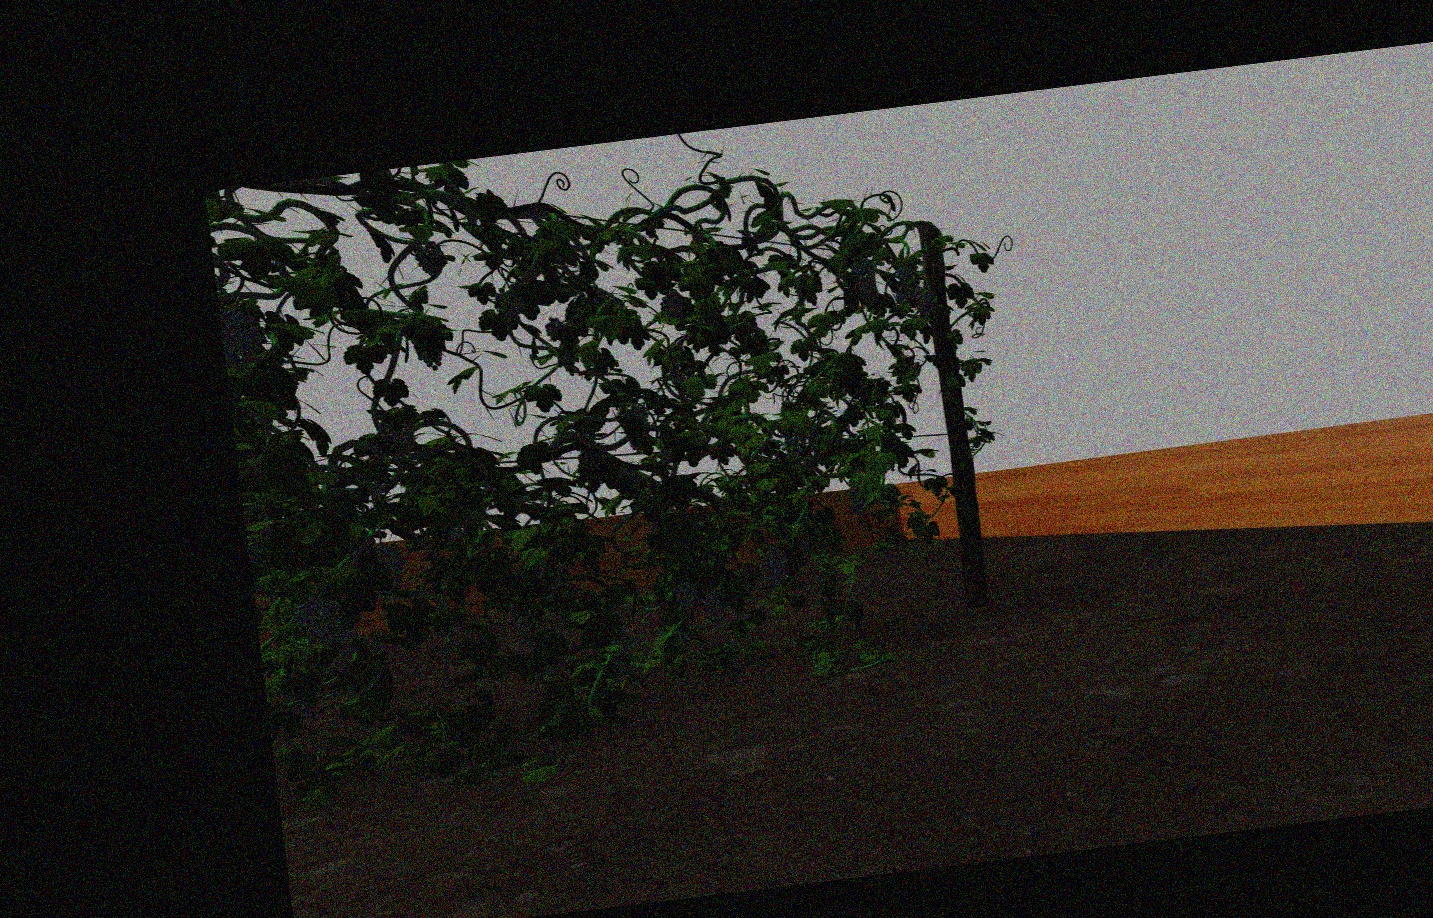grape: (368, 541, 408, 601), (295, 595, 340, 648), (225, 310, 263, 367), (377, 413, 416, 460), (325, 629, 358, 676), (608, 629, 635, 685), (516, 609, 549, 646), (761, 545, 789, 588), (703, 584, 729, 628), (851, 255, 875, 300), (414, 239, 443, 276), (897, 261, 920, 297), (673, 581, 698, 612), (543, 314, 568, 343), (914, 286, 936, 317), (847, 486, 869, 517), (660, 293, 684, 317)
